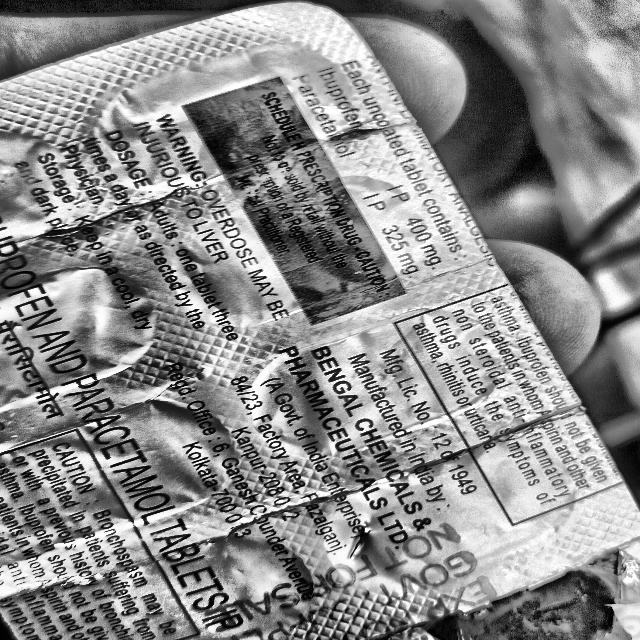IBUPROFEN AND PARACETAMOL TABLETS: (0, 200, 260, 632)
